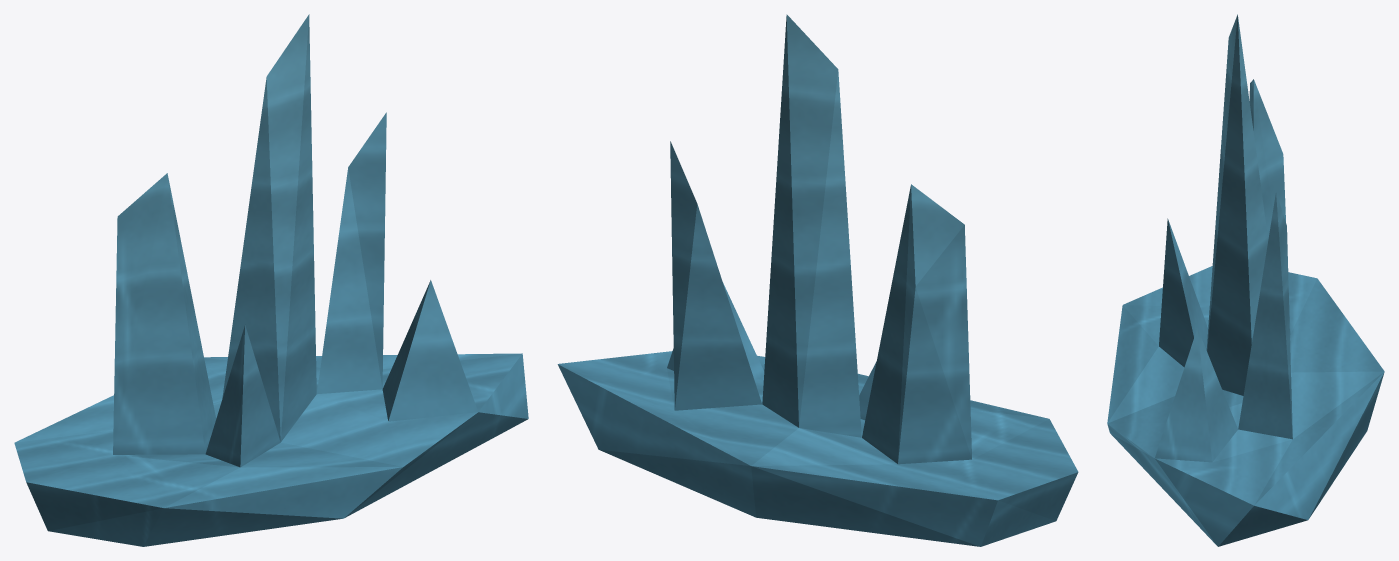
File: ice_serac_ridge_LOD1.glb
3 views of the same model, side by side, from view 1: azimuth 30°, elevation 25°; view 2: azimuth 150°, elevation 25°; view 3: azimuth 270°, elevation 25° (orthographic). The views are drawn at different scales.
Visible parts, largest first — view 1: ice_serac_ridge_LOD1; view 2: ice_serac_ridge_LOD1; view 3: ice_serac_ridge_LOD1.
Part boxes in pixels (x1,y1,x2,y2): ice_serac_ridge_LOD1: (14,14,528,546); ice_serac_ridge_LOD1: (557,14,1078,546); ice_serac_ridge_LOD1: (1107,14,1384,546).
Bounding box in the file's own units: 2.63 × 2.21 × 1.28.
1 material, 1 textured.
